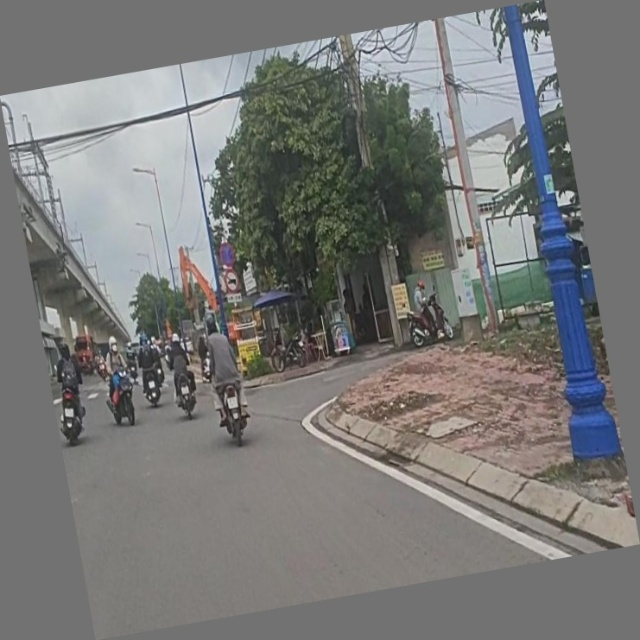B.8a: (222, 267, 243, 295)
P.130: (218, 241, 238, 269)
